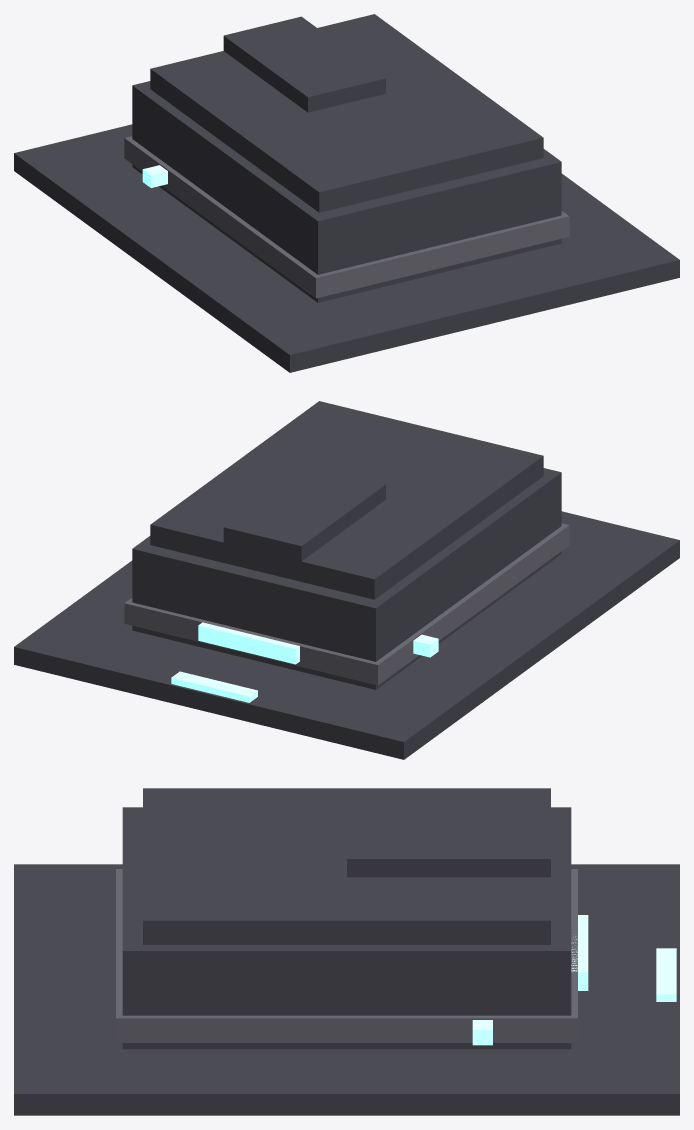
File: chapeu_cauboi_neon.glb
The picture shows the model from 3 angles, top to bottom: view 1: azimuth 30°, elevation 25°; view 2: azimuth 150°, elevation 25°; view 3: azimuth 270°, elevation 25°; orthographic projection. The views are drawn at different scales.
Parts seen in each view (by area): view 1: chapeu_cauboi_neon; view 2: chapeu_cauboi_neon; view 3: chapeu_cauboi_neon.
Boxes of the visible parts, x1=… form: chapeu_cauboi_neon: x1=14, y1=14, x2=679, y2=372; chapeu_cauboi_neon: x1=14, y1=401, x2=679, y2=759; chapeu_cauboi_neon: x1=14, y1=788, x2=679, y2=1115.
Size of the model in its own units: 0.8 by 0.2675 by 0.98.
